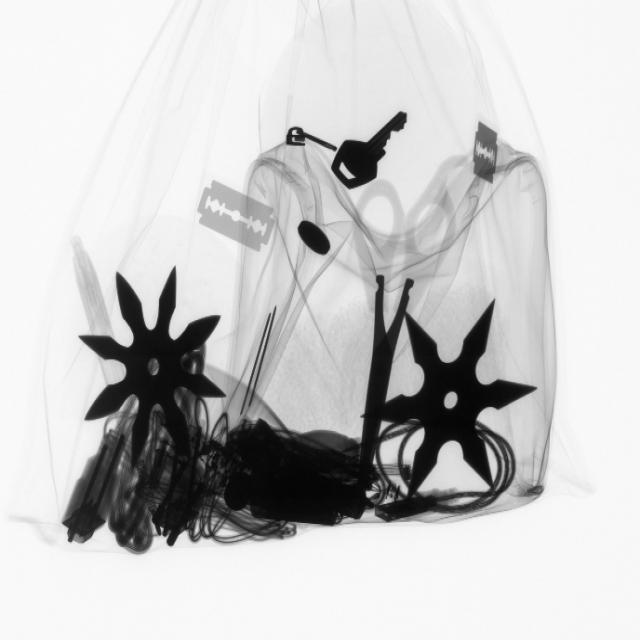BLADE: (194, 176, 281, 260), (468, 117, 507, 190)
SHURIKEN: (380, 294, 534, 501), (80, 262, 227, 470)
